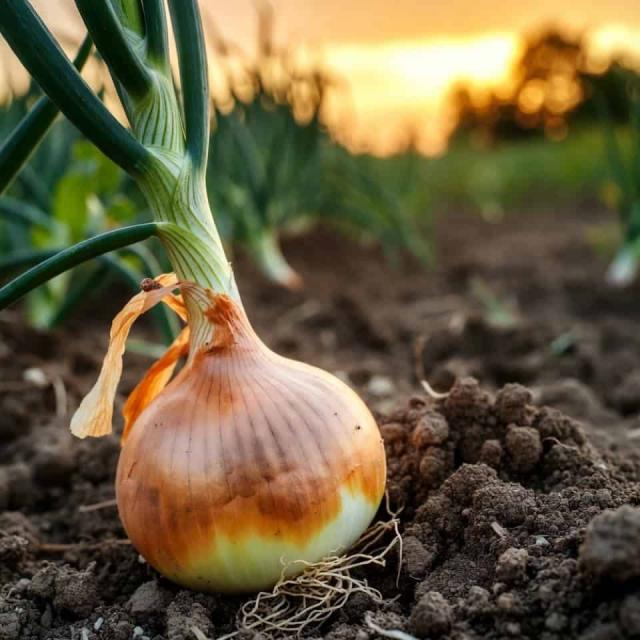sprouting: (30, 11, 408, 609)
